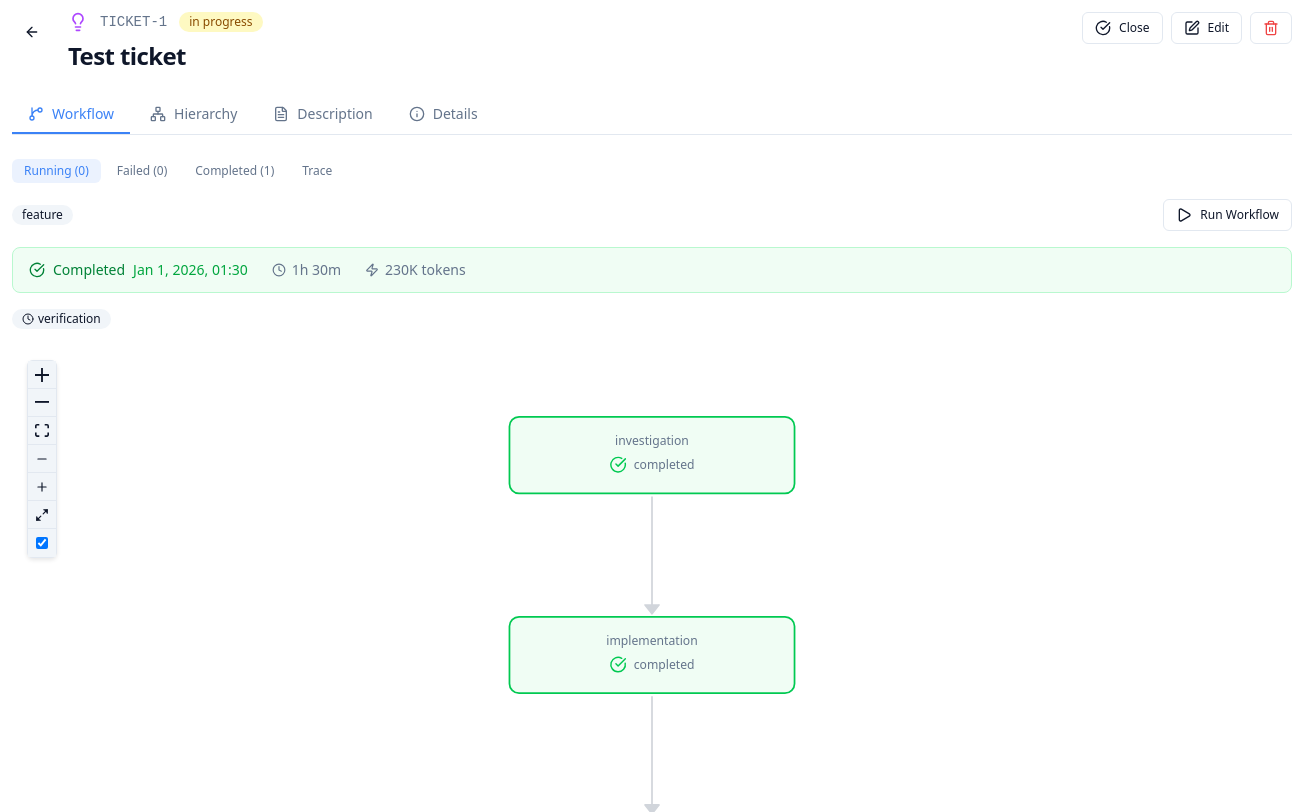
Test case: TicketDetailPage - Completion stats banner › does not show completion banner on description tab
The image size is (1304, 812).
Expected: the heading "Test ticket" is shown, 68,39 -> 186,72
Click the button "Workflow" at (71, 115), box 12,96 -> 130,134
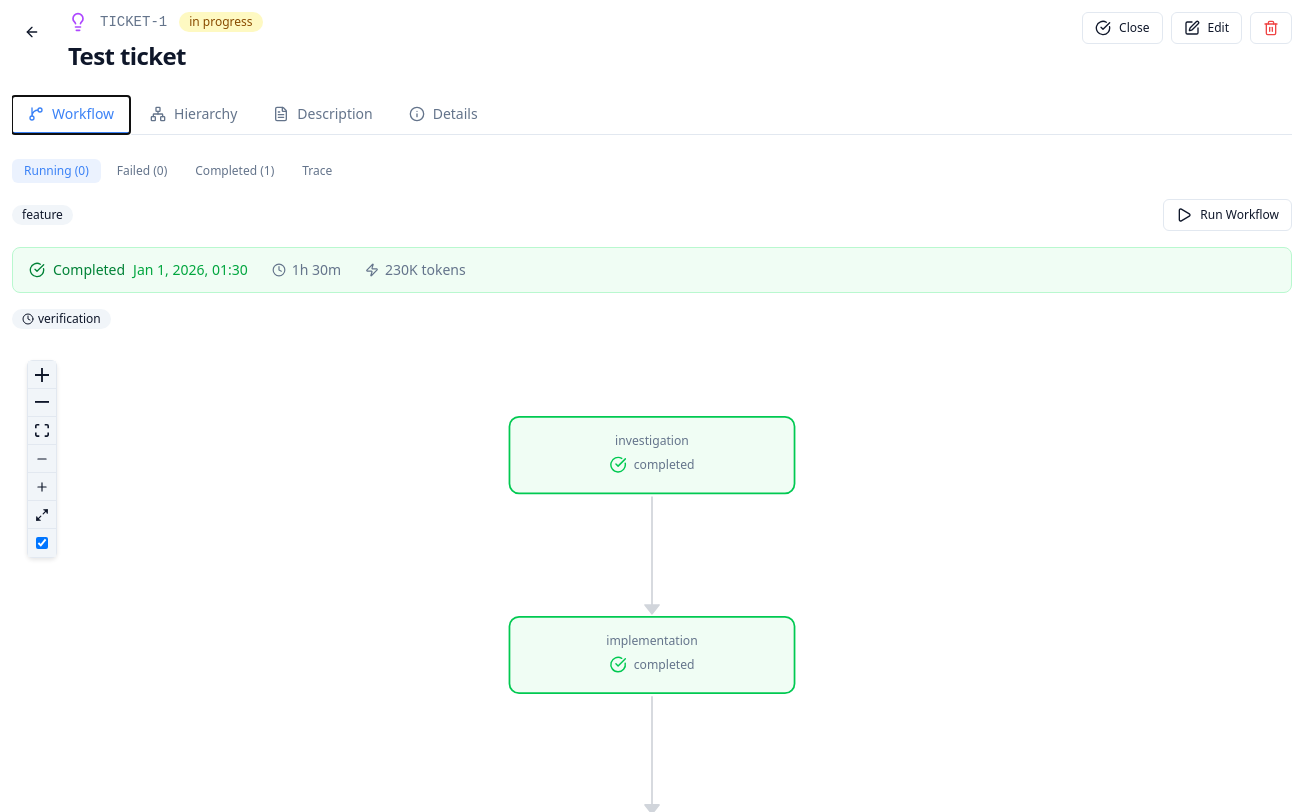
Expected: the text "Completed" is shown, 53,260 -> 125,280
Click the button "Description" at (323, 115), box 257,96 -> 389,134
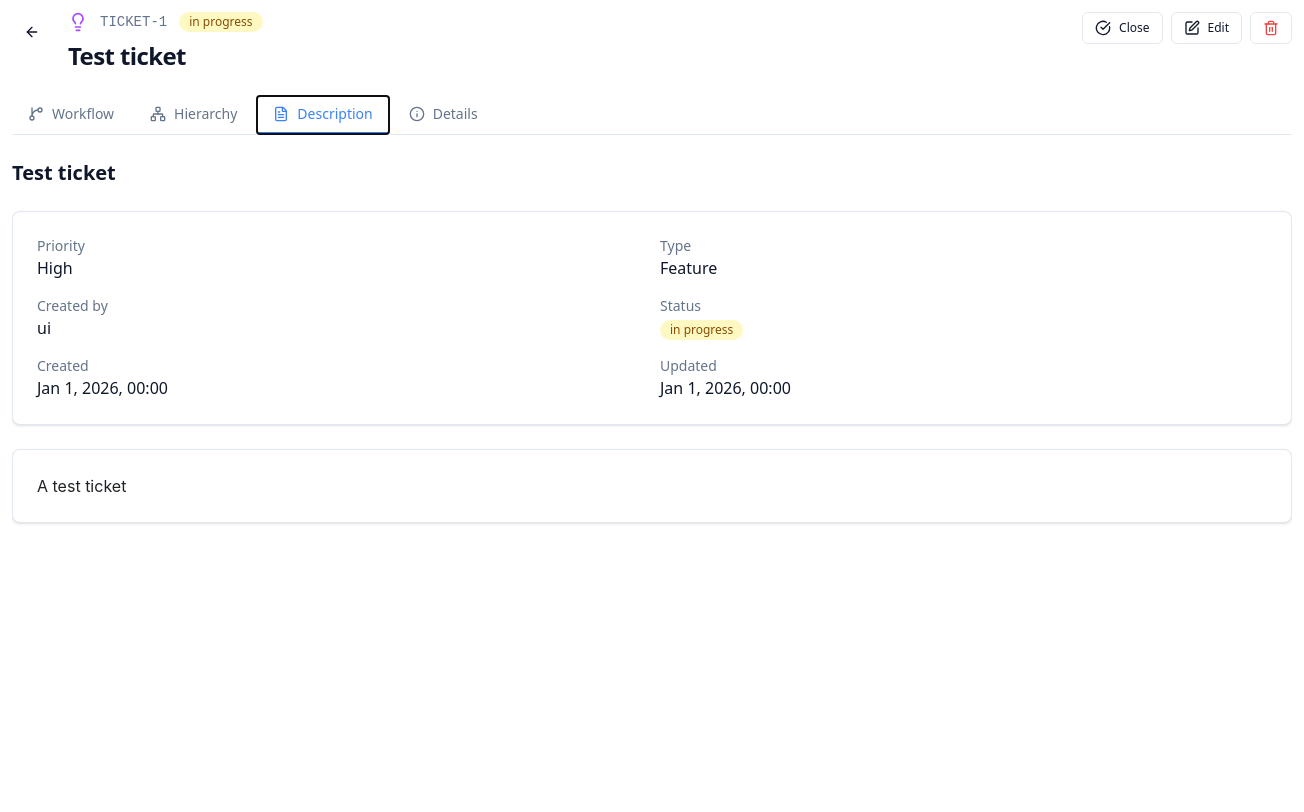
Result: the text "230K tokens" is gone
